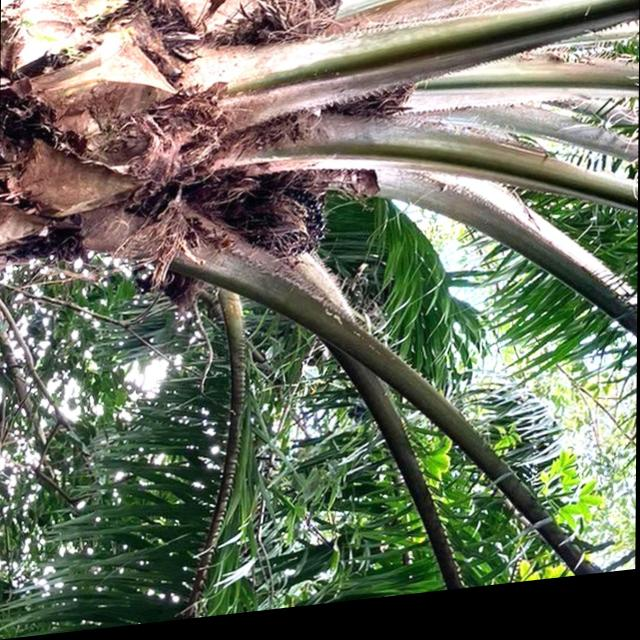unripe: (236, 180, 339, 277)
